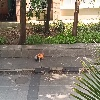fire: (36, 52, 44, 59)
